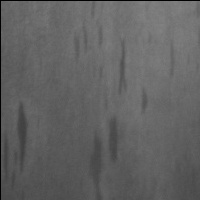inclusion: (10, 94, 34, 177), (66, 19, 109, 62), (84, 127, 109, 200), (110, 35, 134, 99), (105, 113, 128, 165), (161, 33, 182, 84), (133, 81, 156, 118)
